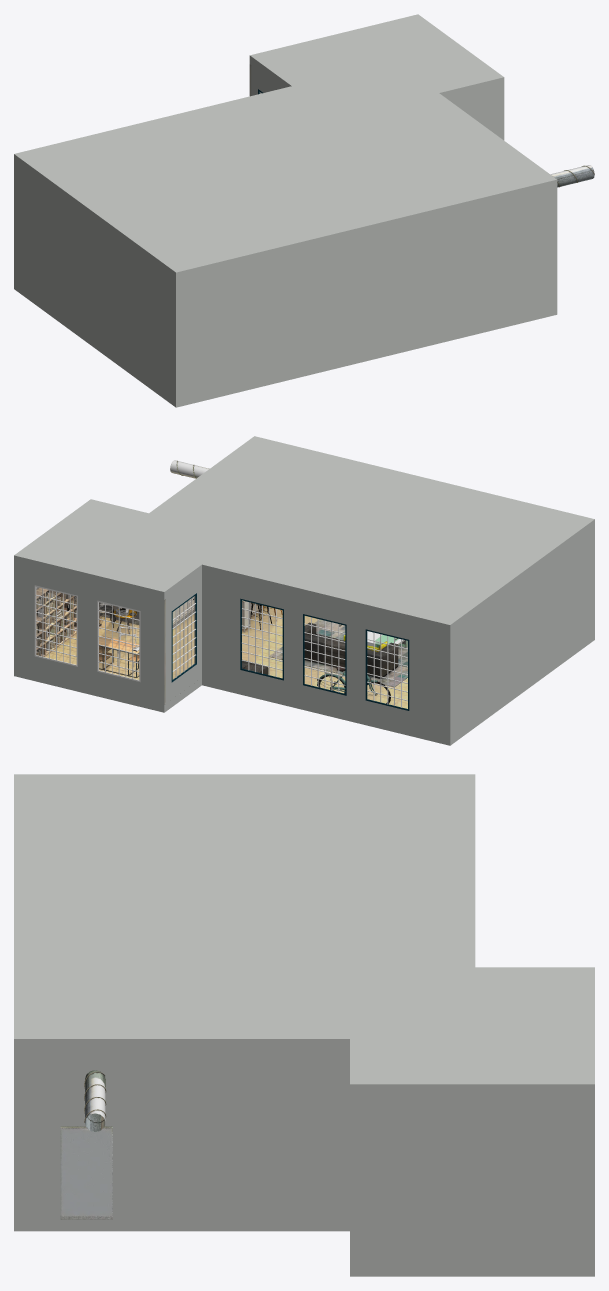
The model's file is big_room_opt.glb.
3 views of the same model, one above another, from view 1: azimuth 30°, elevation 25°; view 2: azimuth 150°, elevation 25°; view 3: azimuth 270°, elevation 25° (orthographic). The views are drawn at different scales.
Visible parts, largest first — view 1: Object_5, Object_19; view 2: Object_5, Object_62, Object_81, Object_70, Object_57, Object_2, Object_63, Object_19; view 3: Object_5, Object_3, Object_19.
Part boxes in pixels (<box>): Object_5: <box>14,14,557,407</box>; Object_19: <box>550,165,594,187</box>; Object_5: <box>14,436,594,745</box>; Object_62: <box>36,587,407,708</box>; Object_81: <box>242,622,398,678</box>; Object_70: <box>36,587,100,656</box>; Object_57: <box>99,626,139,677</box>; Object_2: <box>317,665,390,703</box>; Object_63: <box>99,602,138,634</box>; Object_19: <box>170,460,397,639</box>; Object_5: <box>14,774,594,1276</box>; Object_3: <box>60,1126,112,1219</box>; Object_19: <box>84,1070,106,1132</box>.
Bounding box in the file's own units: 626 × 181 × 496.
26 materials, 26 textured.
